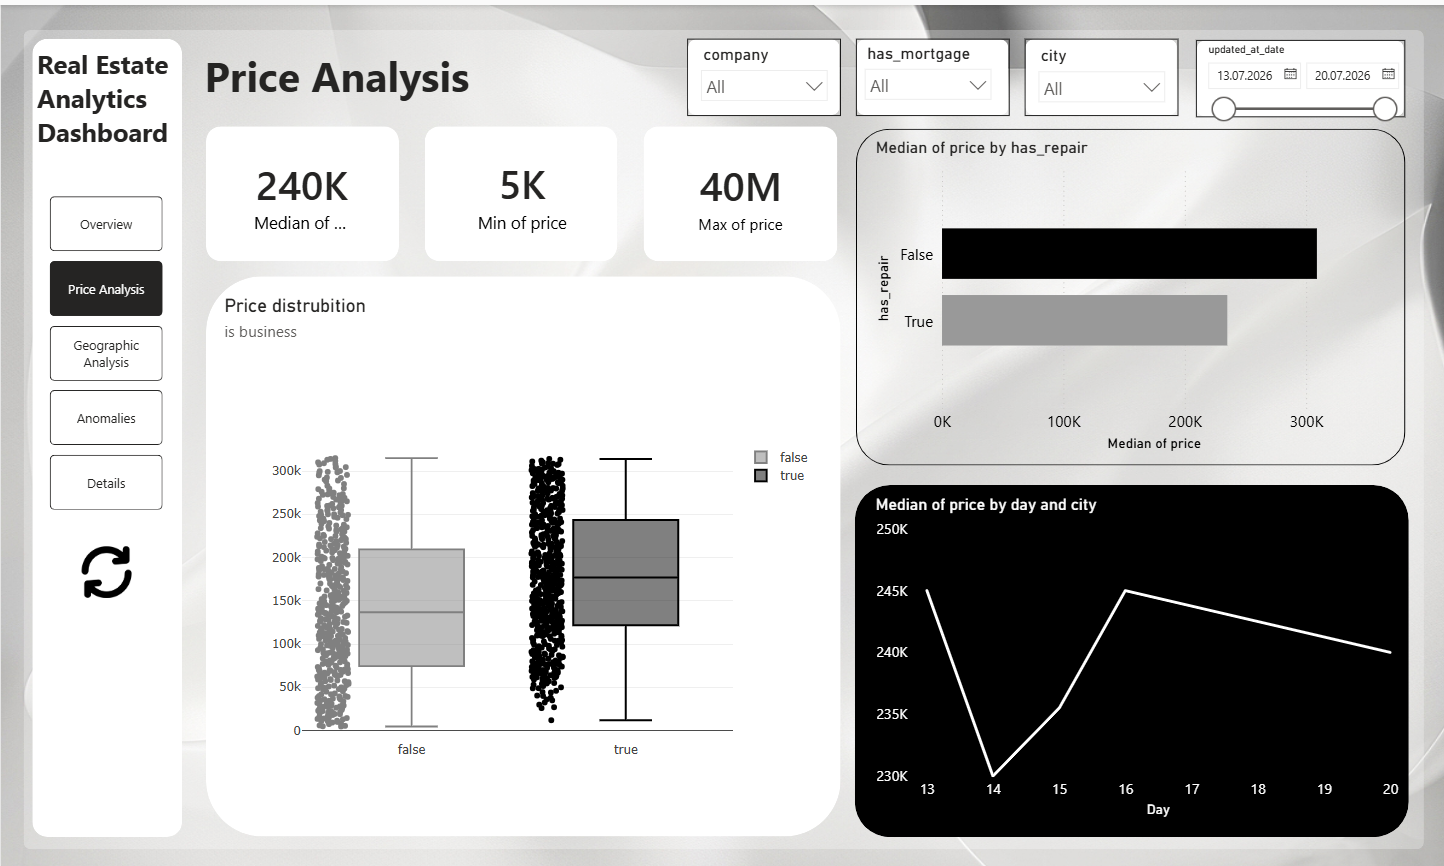

The dashboard page shown, as its layout file describes it:
{"tool":"powerbi","page":{"name":"Price Analysis","canvas":[1500,900],"ordinal":1},"visuals":[{"type":"shape","box":[23.2,25.9,1451.2,848.9],"z":0},{"type":"shape","box":[439,125.4,199.4,139.9],"z":1000},{"type":"shape","box":[32.7,35.4,155.3,827.1],"z":2000},{"type":"textbox","box":[205.8,38.6,307.1,69.1],"z":3000},{"type":"shape","box":[212.2,125.5,200,140],"z":4000},{"type":"shape","box":[665.7,125.4,201,139.9],"z":5000},{"type":"cardVisual","fields":{"Data":["Median(listings.price)"]},"box":[233.6,137.9,157.6,119.6],"z":6000},{"type":"cardVisual","fields":{"Data":["Min(listings.price)"]},"box":[439,136.7,202.6,119],"z":7000},{"type":"cardVisual","fields":{"Data":["Max(listings.price)"]},"box":[675.4,138.3,183.3,119],"z":8000},{"type":"shape","box":[886,128.6,569.3,349],"z":9000},{"type":"shape","box":[1061,35.2,159,80.2],"z":10000},{"type":"shape","box":[884.4,496.9,574.1,365],"z":11000},{"type":"shape","box":[886.5,35.2,159,80.2],"z":12000},{"type":"shape","box":[710.6,35.2,159,80.2],"z":13000},{"type":"shape","box":[1238.3,36.6,216.7,80.2],"z":14000},{"type":"shape","box":[212.3,281.4,657.7,580.5],"z":15000},{"type":"slicer","fields":{"Values":["listings.city"]},"box":[1065.2,38,152,77.4],"z":16000},{"type":"slicer","fields":{"Values":["listings.updated_at_date"]},"box":[1238.3,35.2,216.7,90.1],"z":17000},{"type":"slicer","fields":{"Values":["listings.has_mortgage"]},"box":[885.1,35.2,152,77.4],"z":18000},{"type":"slicer","fields":{"Values":["listings.company"]},"box":[714.8,36.6,152,77.4],"z":19000},{"type":"textbox","box":[32.4,38,173.1,128],"z":20000},{"type":"boxPloty6C987A9E682A4A859272BFEC966AF372","title":"Price distrubition","fields":{"measure":["listings.price"],"category":["listings.is_business"]},"box":[226.7,300.7,632,546.7],"z":21000},{"type":"lineChart","title":"Median of price by day and city","fields":{"Category":["listings.updated_at_date.Variation.Date Hierarchy.Day","listings.city"],"Y":["Median(listings.price)"]},"box":[902.1,508.1,553.2,339.3],"z":22000},{"type":"barChart","fields":{"Category":["listings.has_repair"],"Y":["Median(listings.price)"]},"box":[902.1,136.7,537.1,329.7],"z":23000},{"type":"pageNavigator","box":[50.4,197.6,117.2,329.8],"z":24000},{"type":"image","box":[73.4,560.9,71.7,53.8],"z":25000}]}

Visuals, with their boxes in screenshot pixels (x1, y1, x2, y2), scaled from the page's 1500x900 canvas onto the 1444x866 screenshot:
shape: select_region(22, 25, 1419, 842)
shape: select_region(423, 121, 615, 255)
shape: select_region(31, 34, 181, 830)
textbox: select_region(198, 37, 494, 104)
shape: select_region(204, 121, 397, 255)
shape: select_region(641, 121, 834, 255)
cardVisual - Median(listings.price): select_region(225, 133, 377, 248)
cardVisual - Min(listings.price): select_region(423, 132, 618, 246)
cardVisual - Max(listings.price): select_region(650, 133, 827, 248)
shape: select_region(853, 124, 1401, 460)
shape: select_region(1021, 34, 1174, 111)
shape: select_region(851, 478, 1404, 829)
shape: select_region(853, 34, 1006, 111)
shape: select_region(684, 34, 837, 111)
shape: select_region(1192, 35, 1401, 112)
shape: select_region(204, 271, 838, 829)
slicer - listings.city: select_region(1025, 37, 1172, 111)
slicer - listings.updated_at_date: select_region(1192, 34, 1401, 121)
slicer - listings.has_mortgage: select_region(852, 34, 998, 108)
slicer - listings.company: select_region(688, 35, 834, 110)
textbox: select_region(31, 37, 198, 160)
"Price distrubition" boxPloty6C987A9E682A4A859272BFEC966AF372: select_region(218, 289, 827, 815)
"Median of price by day and city" lineChart: select_region(868, 489, 1401, 815)
barChart - listings.has_repair x Median(listings.price): select_region(868, 132, 1385, 449)
pageNavigator: select_region(49, 190, 161, 507)
image: select_region(71, 540, 140, 591)
